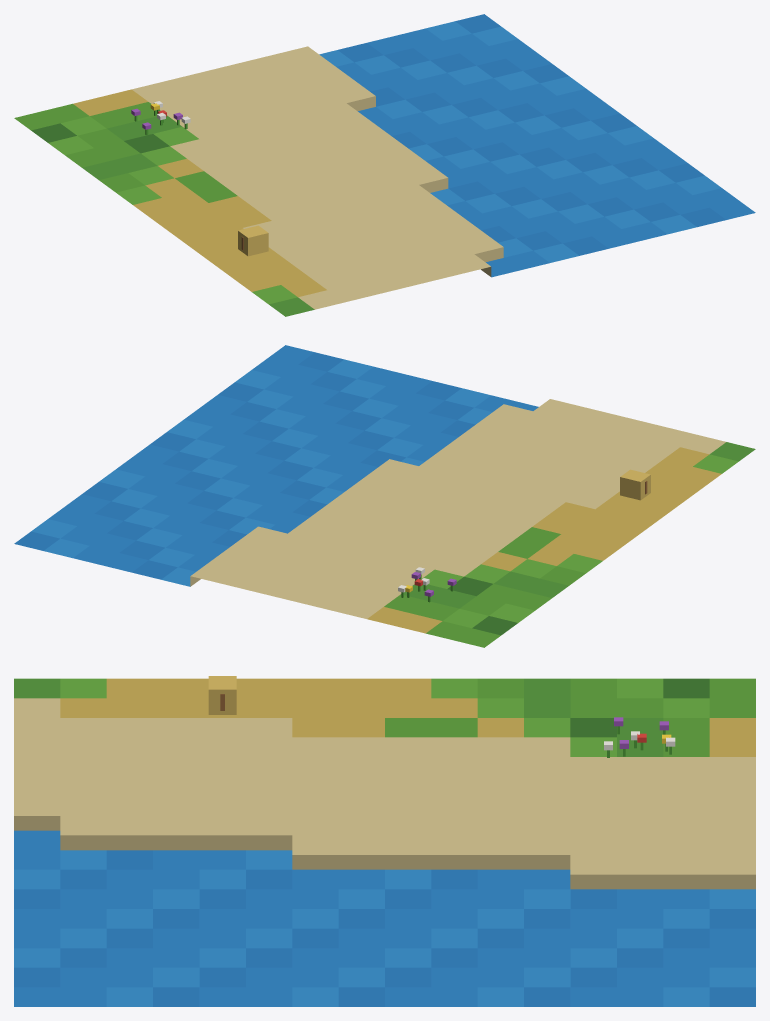
The model's file is chunk_11_12.glb.
The picture shows the model from 3 angles, top to bottom: view 1: azimuth 30°, elevation 25°; view 2: azimuth 150°, elevation 25°; view 3: azimuth 270°, elevation 25°; orthographic projection. The views are drawn at different scales.
Visible parts, largest first — view 1: chunk_11_12; view 2: chunk_11_12; view 3: chunk_11_12.
Part boxes in pixels (x1,y1,x2,y2): chunk_11_12: (14,14,755,316); chunk_11_12: (14,345,755,647); chunk_11_12: (14,676,755,1006).
Size of the model in its own units: 16 by 0.95 by 16.
